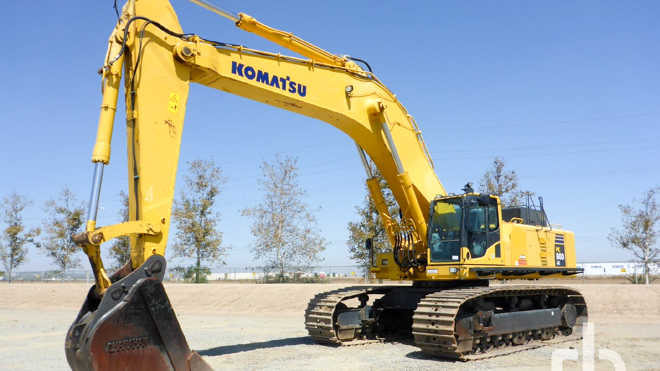backhoe: (61, 1, 594, 368)
